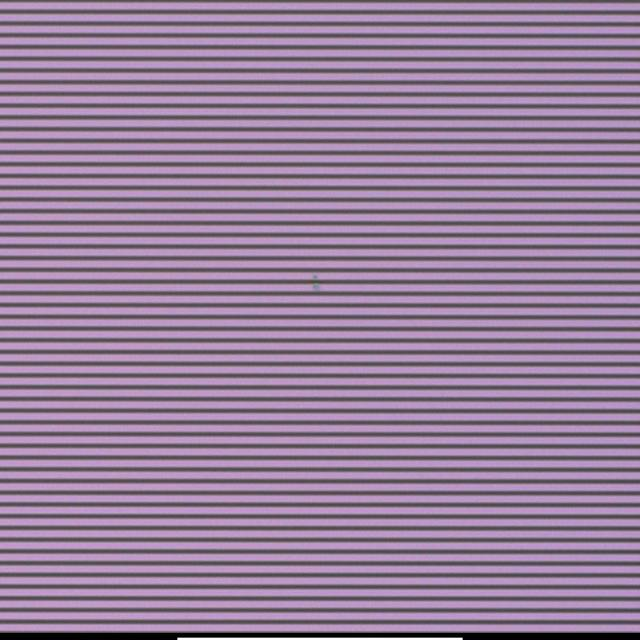03_intrusion: (310, 272, 324, 296)
